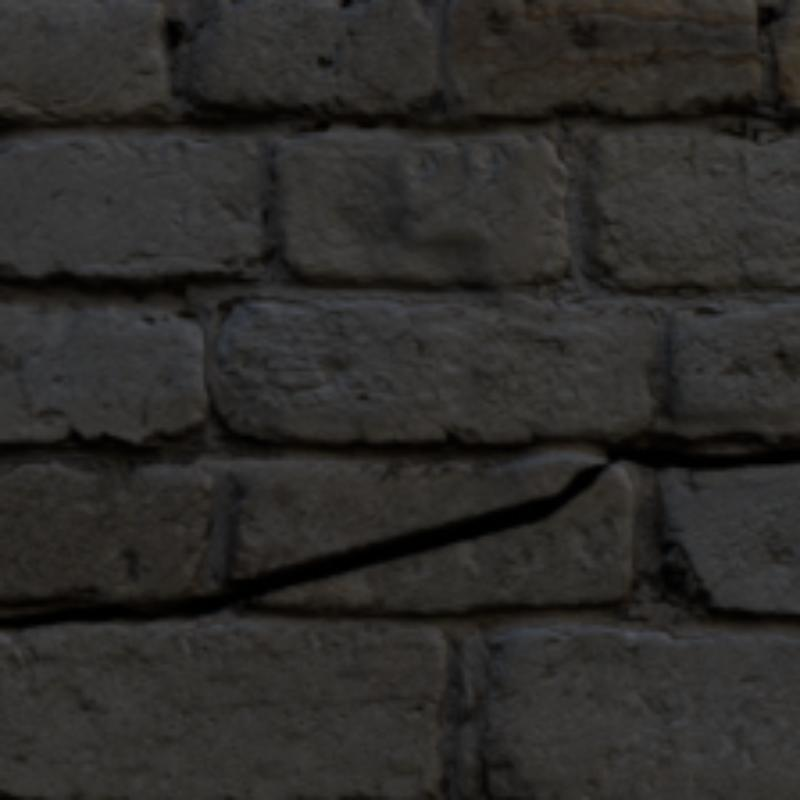pothole: (0, 446, 796, 629)
